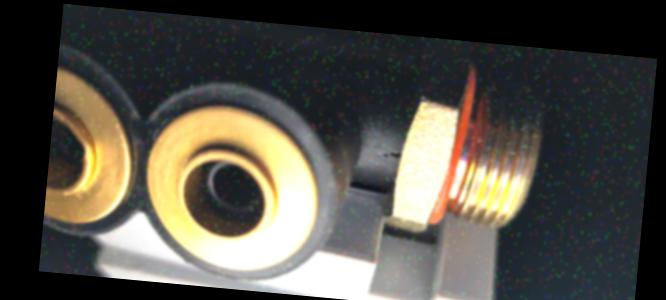craze: (379, 148, 402, 163)
joint line: (360, 138, 379, 152)
